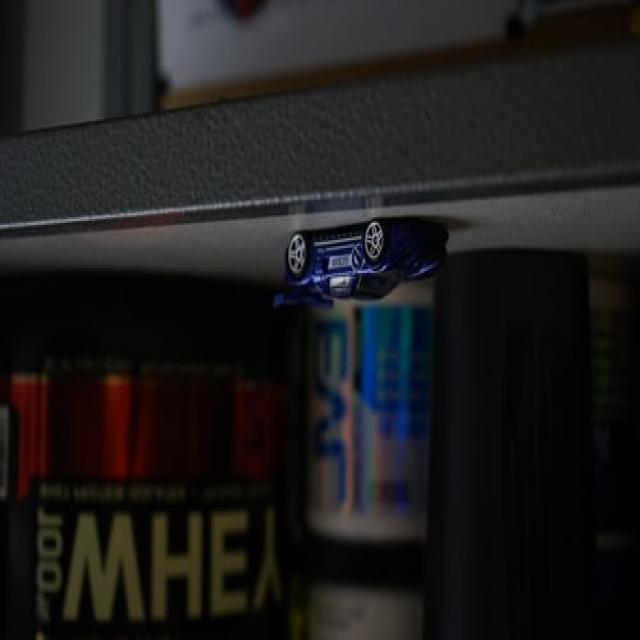Car: (280, 219, 450, 308)
